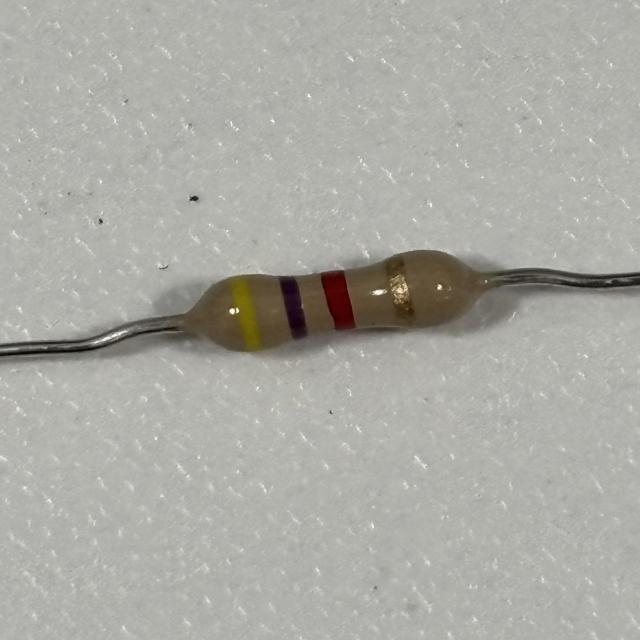resistor: (207, 248, 458, 355)
